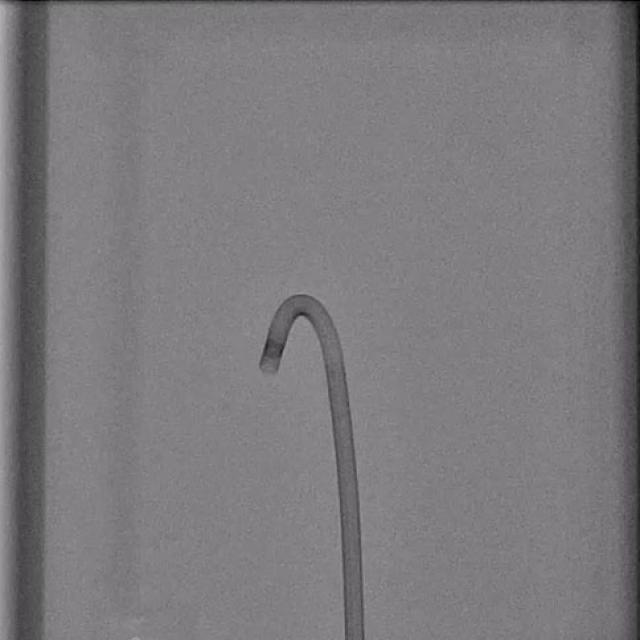bend: (324, 356, 344, 371)
entry: (346, 635, 363, 640)
marker: (263, 337, 285, 360)
tip: (260, 359, 280, 374)
